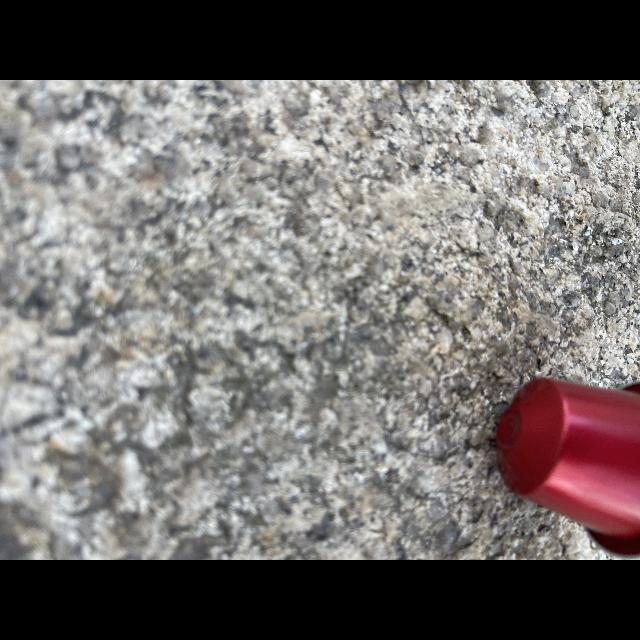intact_capsule: (478, 368, 640, 560)
